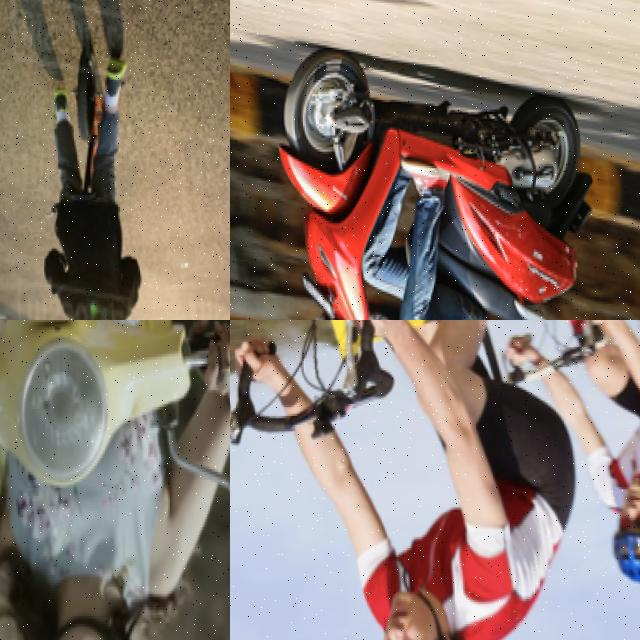helmet: (603, 520, 640, 589)
